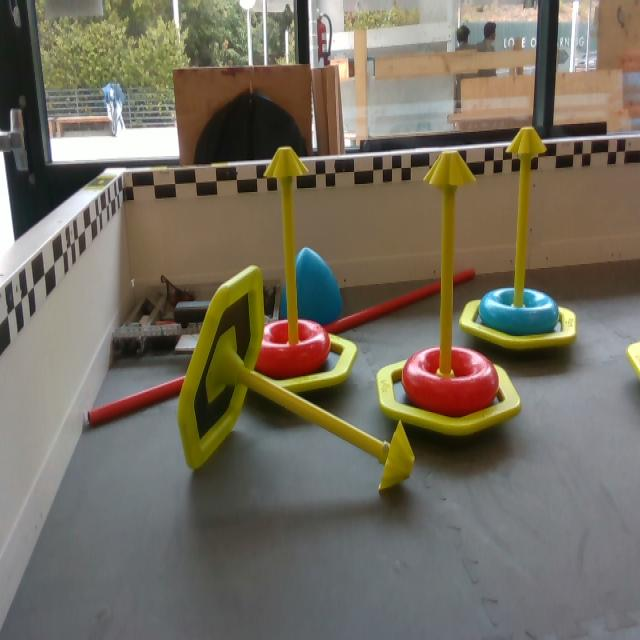Blue-Ring: (482, 288, 561, 333)
Mobile-Goal: (174, 261, 421, 498), (372, 139, 524, 437), (461, 117, 583, 355), (254, 146, 363, 397), (620, 333, 639, 390)
Red-Ring: (403, 346, 494, 413), (260, 322, 334, 376)
Yellow-Stake-Head: (382, 421, 416, 492), (424, 150, 479, 187), (263, 147, 312, 182), (506, 126, 547, 158)
